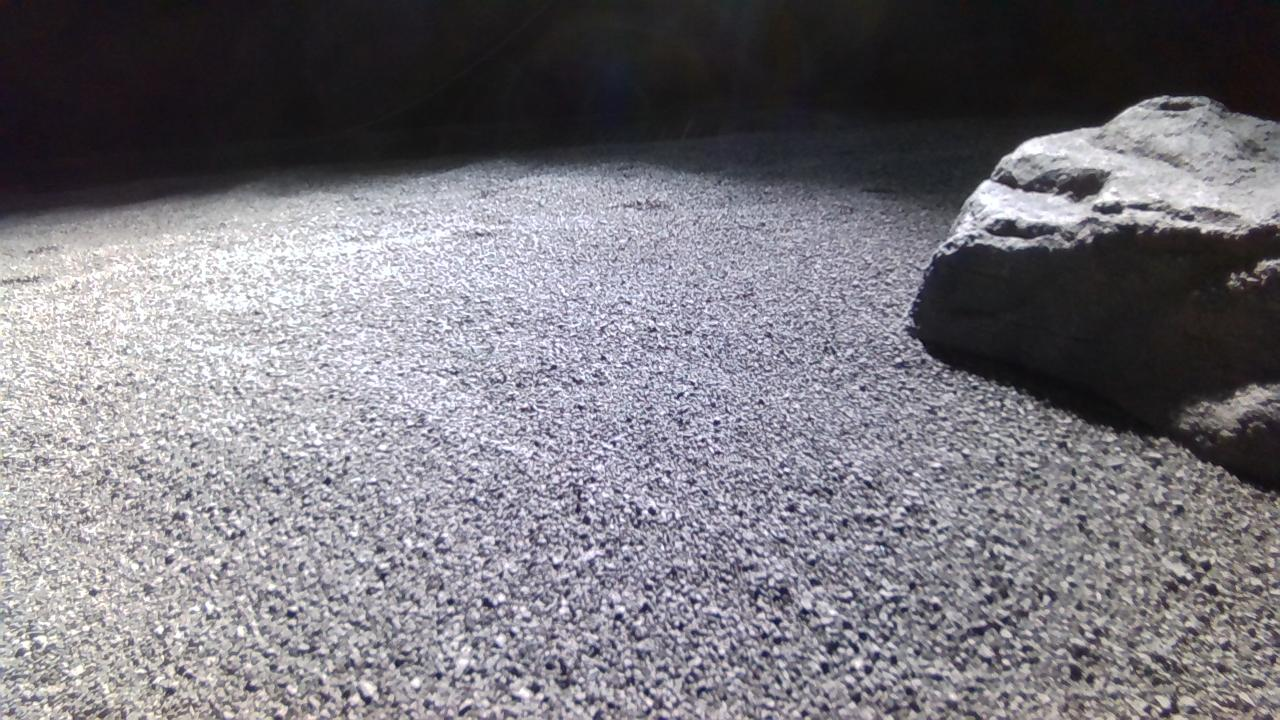rock: (916, 95, 1280, 483)
